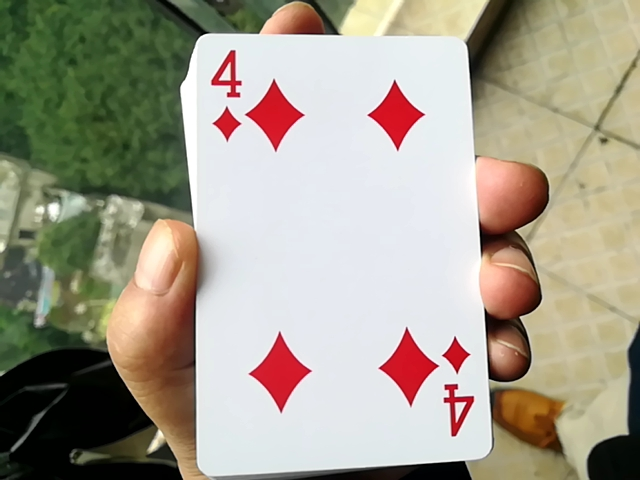fk 4: (162, 13, 490, 469)
